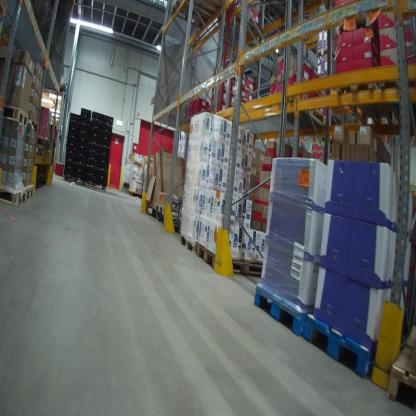pallet: (302, 307, 381, 379), (251, 279, 317, 342), (335, 73, 397, 137), (381, 318, 414, 406), (267, 89, 334, 131), (197, 240, 271, 276), (379, 66, 415, 138), (180, 1, 238, 26), (170, 2, 214, 32), (152, 199, 187, 224), (2, 101, 30, 129), (0, 187, 26, 206), (179, 234, 198, 257), (62, 172, 85, 187), (86, 179, 106, 193), (27, 115, 39, 132), (35, 136, 53, 147), (25, 184, 36, 200), (34, 142, 43, 160), (40, 145, 48, 158), (46, 148, 54, 161)
